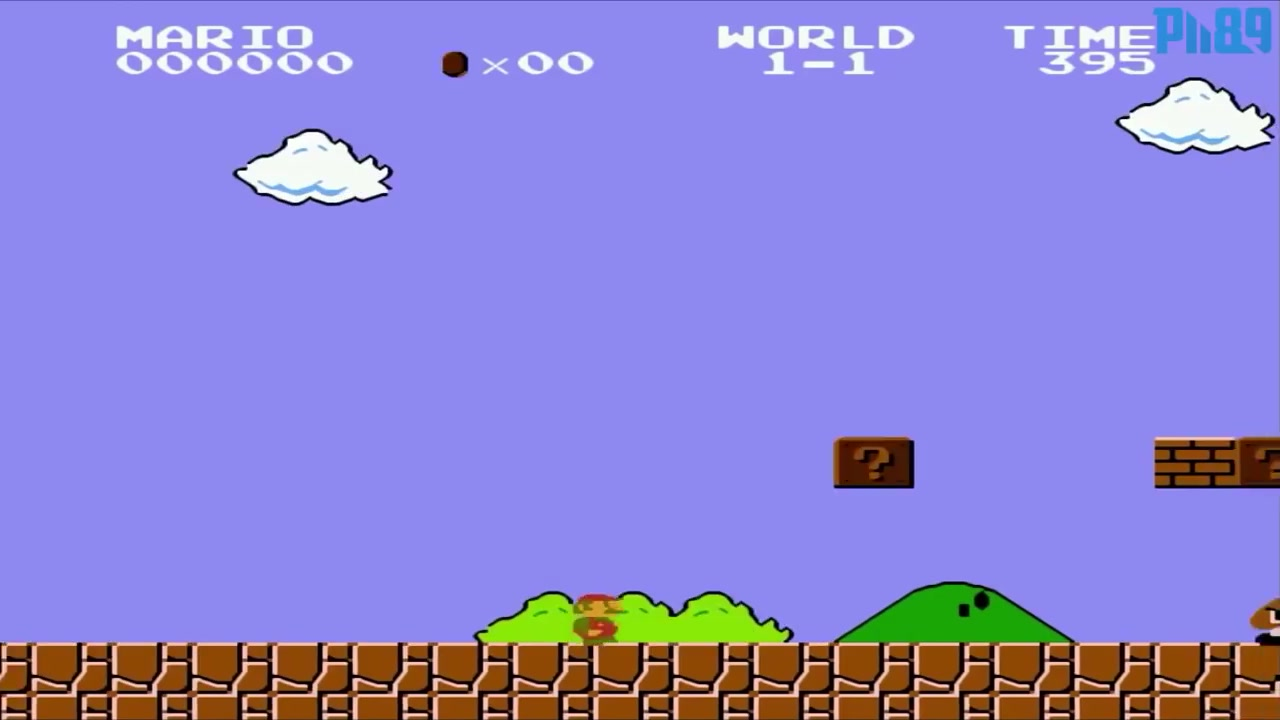mario: (563, 586, 629, 646)
